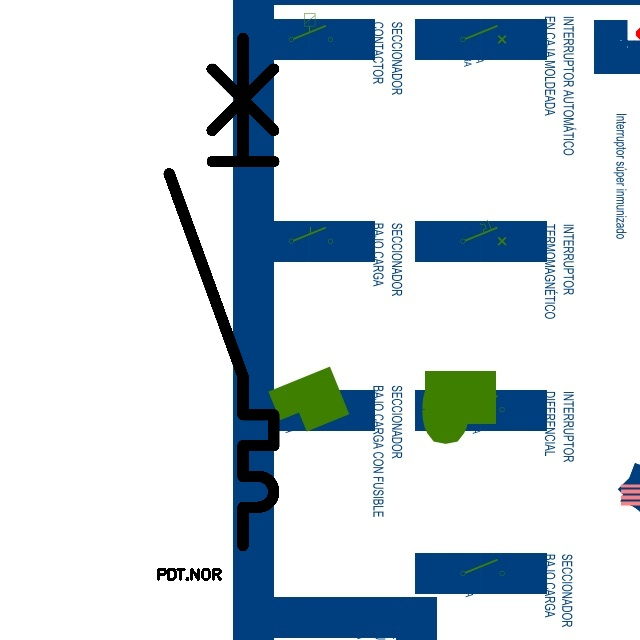interruptor_termomagnetico: (156, 25, 287, 559)
